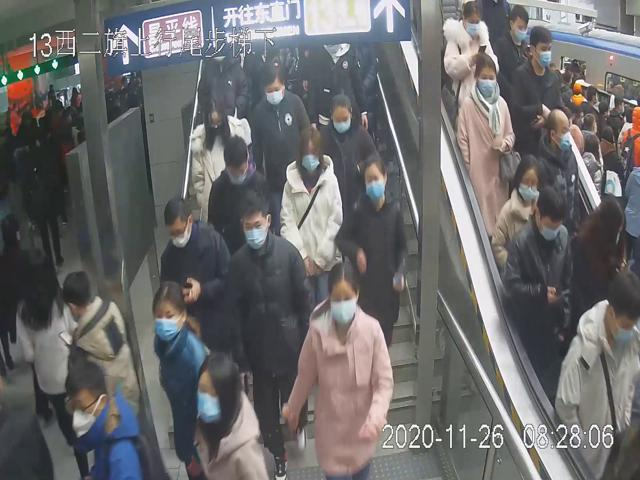person: (224, 185, 316, 479), (279, 260, 394, 480), (499, 180, 575, 397), (332, 154, 408, 349), (276, 124, 344, 308), (149, 279, 211, 473), (454, 52, 517, 241), (158, 195, 230, 354), (188, 89, 253, 220), (248, 62, 314, 189), (207, 136, 277, 246), (316, 91, 379, 209), (533, 103, 582, 236)
